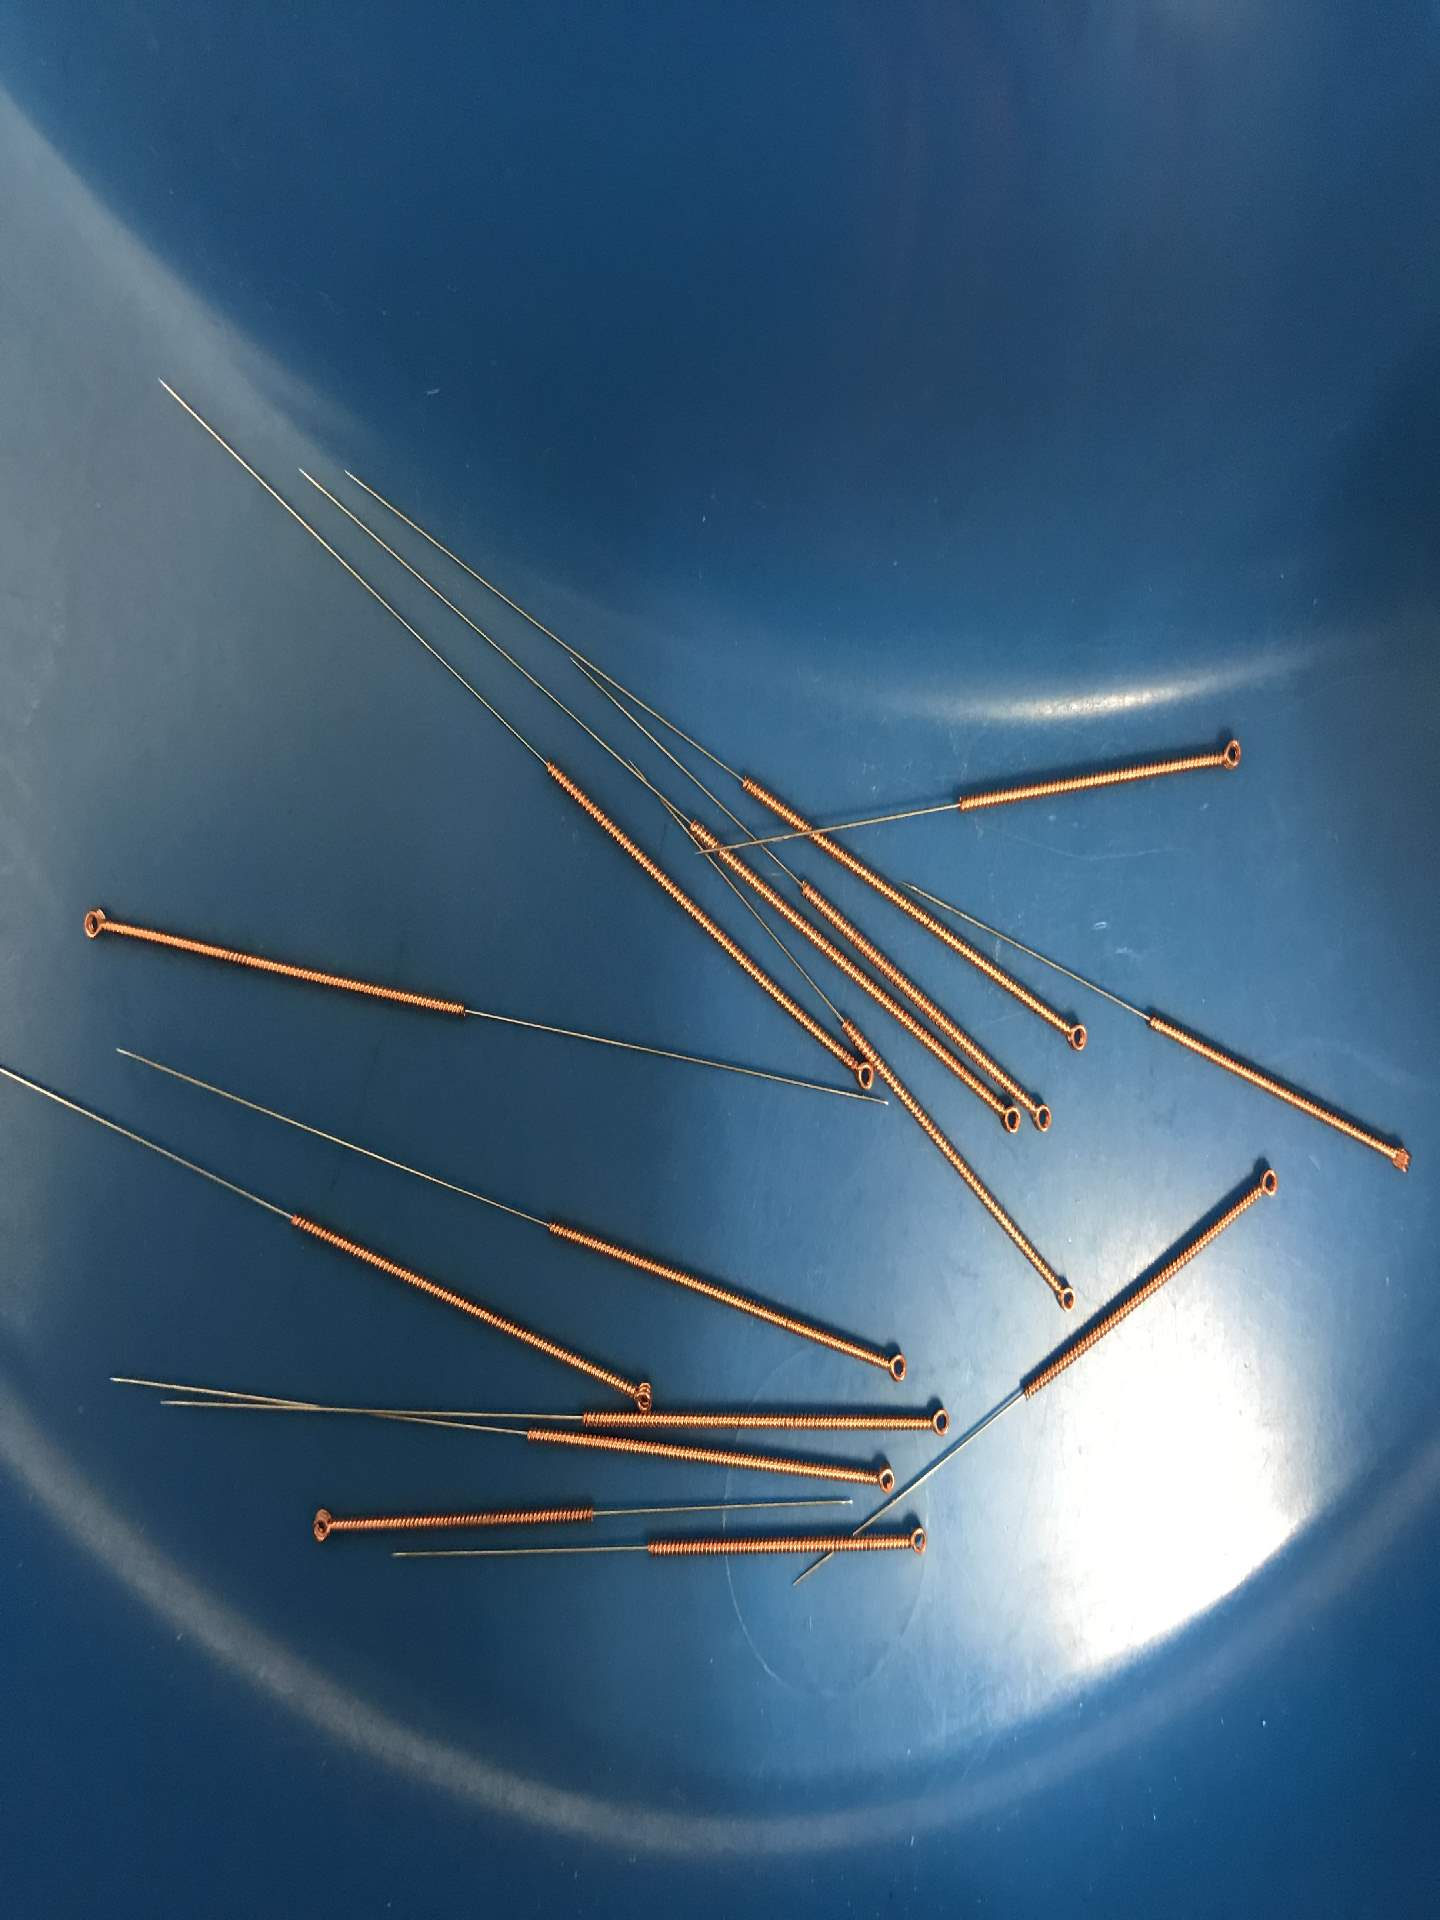needle: (298, 1501, 346, 1556), (71, 897, 116, 949), (617, 1367, 663, 1420), (1053, 1011, 1100, 1061), (1206, 732, 1252, 780), (1376, 1132, 1420, 1184), (873, 1338, 915, 1391), (1019, 1093, 1063, 1143), (1245, 1157, 1287, 1208), (986, 1095, 1027, 1146), (836, 1055, 882, 1101), (917, 1395, 957, 1445), (859, 1456, 902, 1503), (1045, 1271, 1085, 1321), (895, 1518, 935, 1565)
